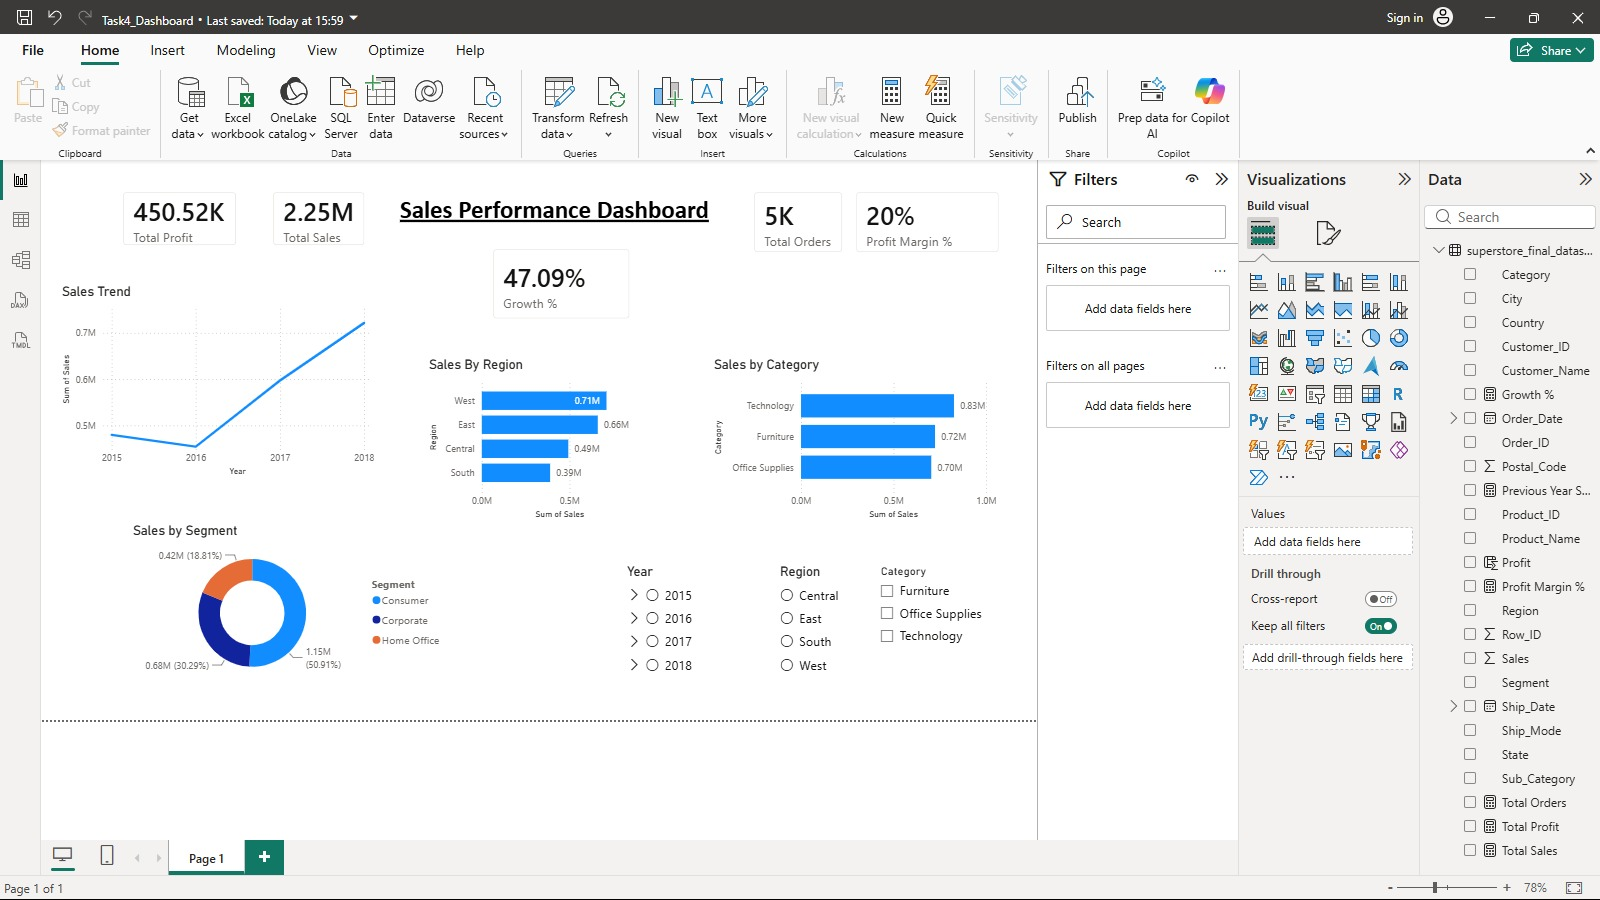

This screenshot's page, from the dashboard's own definition file:
{"tool":"powerbi","page":{"name":"Page 1","canvas":[1280,720],"ordinal":0},"visuals":[{"type":"cardVisual","fields":{"Data":["superstore_final_dataset (1).Total Profit"]},"box":[88.7,24.4,179.9,102.8],"z":3001},{"type":"cardVisual","fields":{"Data":["superstore_final_dataset (1).Total Sales"]},"box":[281.4,24.4,151.6,102.8],"z":3002},{"type":"cardVisual","fields":{"Data":["superstore_final_dataset (1).Profit margin %"]},"box":[1030.7,24.4,217.2,111.8],"z":3003},{"type":"cardVisual","fields":{"Data":["superstore_final_dataset (1).Total Orders"]},"box":[899.6,24.4,147.8,111.8],"z":3004},{"type":"lineChart","title":"Sales Trend","fields":{"Category":["superstore_final_dataset (1).Order_Date.Variation.Date Hierarchy.Year","superstore_final_dataset (1).Order_Date.Variation.Date Hierarchy.Quarter","superstore_final_dataset (1).Order_Date.Variation.Date Hierarchy.Month","superstore_final_dataset (1).Order_Date.Variation.Date Hierarchy.Day"],"Y":["Sum(superstore_final_dataset (1).Sales)"]},"box":[21.8,159.4,411.2,250.6],"z":3005},{"type":"clusteredBarChart","title":"Sales By Region","fields":{"Y":["Sum(superstore_final_dataset (1).Sales)"],"Category":["superstore_final_dataset (1).Region"]},"box":[493.5,253.2,293,212],"z":3006},{"type":"donutChart","title":"Sales by Segment","fields":{"Category":["superstore_final_dataset (1).Segment"],"Y":["Sum(superstore_final_dataset (1).Sales)"]},"box":[113.1,466.5,413.8,212],"z":3007},{"type":"listSlicer","fields":{"Values":["superstore_final_dataset (1).Region"]},"box":[944.6,519.2,102.8,159.4],"z":3008},{"type":"listSlicer","fields":{"Values":["superstore_final_dataset (1).Order_Date.Variation.Date Hierarchy.Year","superstore_final_dataset (1).Order_Date.Variation.Date Hierarchy.Quarter","superstore_final_dataset (1).Order_Date.Variation.Date Hierarchy.Month","superstore_final_dataset (1).Order_Date.Variation.Date Hierarchy.Day"]},"box":[748,519.2,116.9,170.9],"z":3009},{"type":"slicer","fields":{"Values":["superstore_final_dataset (1).Category"]},"box":[1066.7,515.3,167.1,115.7],"z":3010},{"type":"clusteredBarChart","title":"Sales by Category","fields":{"Category":["superstore_final_dataset (1).Category"],"Y":["Sum(superstore_final_dataset (1).Sales)"]},"box":[859.8,253.2,374,212],"z":3011},{"type":"textbox","box":[456.2,39.8,425.4,54],"z":3012},{"type":"cardVisual","fields":{"Data":["superstore_final_dataset (1).Growth %"]},"box":[564.2,97.7,209.5,123.4],"z":3013}]}

Visuals, with their boxes on the page's 1280x720 design canvas (x1, y1, x2, y2). These are canvas units, not pixel positions in the 1600x900 screenshot, which may show the page scaled, cropped or inside an application window:
cardVisual - superstore_final_dataset (1).Total Profit: 89,24,269,127
cardVisual - superstore_final_dataset (1).Total Sales: 281,24,433,127
cardVisual - superstore_final_dataset (1).Profit margin %: 1031,24,1248,136
cardVisual - superstore_final_dataset (1).Total Orders: 900,24,1047,136
"Sales Trend" lineChart: 22,159,433,410
"Sales By Region" clusteredBarChart: 494,253,786,465
"Sales by Segment" donutChart: 113,466,527,678
listSlicer - superstore_final_dataset (1).Region: 945,519,1047,679
listSlicer - superstore_final_dataset (1).Order_Date.Variation.Date Hierarchy.Year x superstore_final_dataset (1).Order_Date.Variation.Date Hierarchy.Quarter: 748,519,865,690
slicer - superstore_final_dataset (1).Category: 1067,515,1234,631
"Sales by Category" clusteredBarChart: 860,253,1234,465
textbox: 456,40,882,94
cardVisual - superstore_final_dataset (1).Growth %: 564,98,774,221
